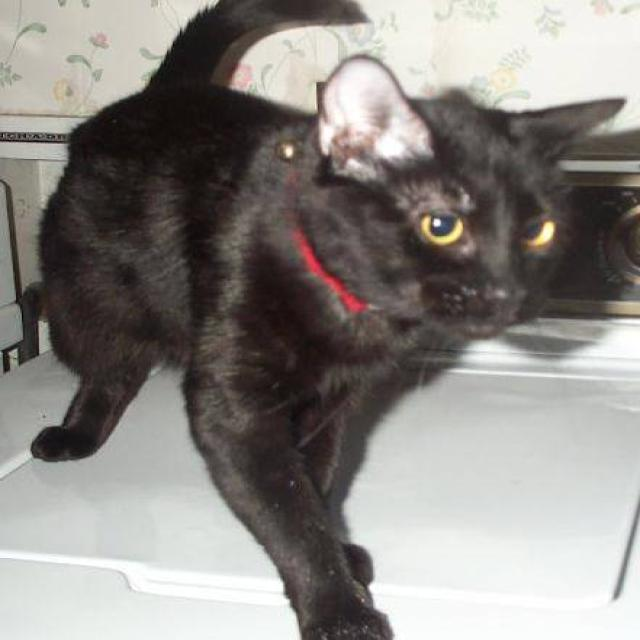cat: (26, 0, 627, 639)
